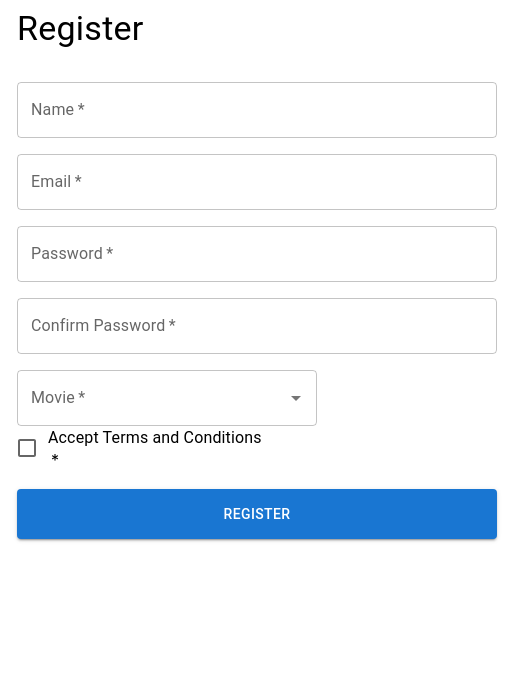
Test: Test Register Form › It should have all require
What coordinates should you click on to do the following:
click the button "Register"
I would click on:
 (257, 514)
Its box is left=17, top=489, right=497, bottom=539.
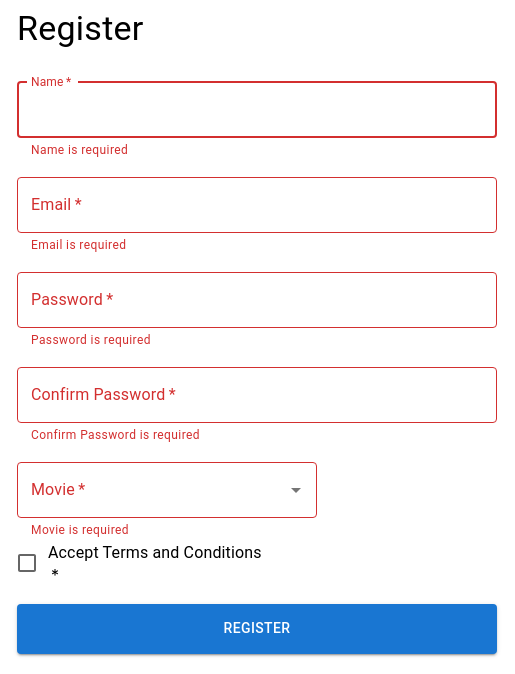
Check: the text "Name is required" is shown, box left=31, top=143, right=128, bottom=157
Check: the text "Email is required" is shown, box left=31, top=238, right=126, bottom=252
Check: the text "Password is required" is shown, box left=31, top=333, right=151, bottom=347
